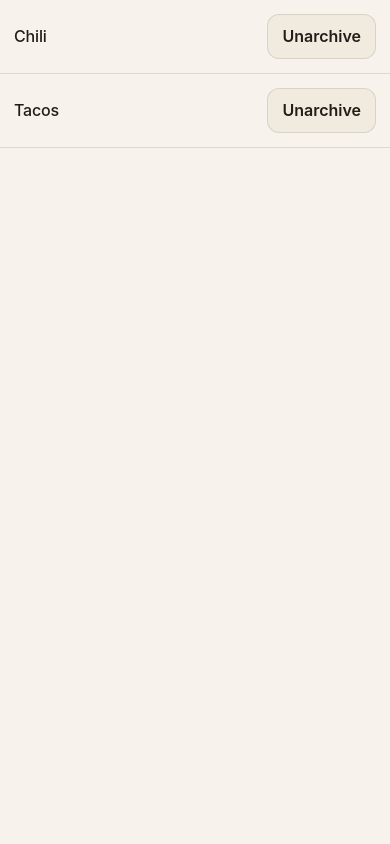
it: unarchives a recipe and removes it from the list
Check: the text "Chili" is shown, box [14, 26, 47, 46]
Click the button with test id "archived-recipe-unarchive-r1" at (322, 36), box [267, 14, 376, 59]
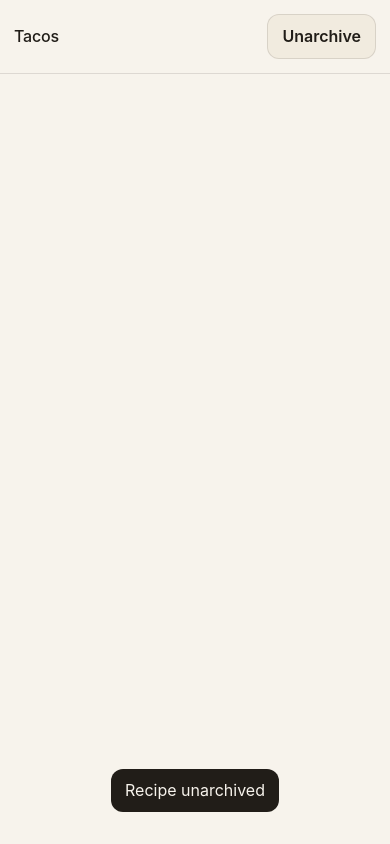
Check: the text "Tacos" is shown, box [14, 26, 59, 46]
Check: the text "Recipe unarchived" is shown, box [125, 777, 265, 804]
Check: the button "Chili" is gone
